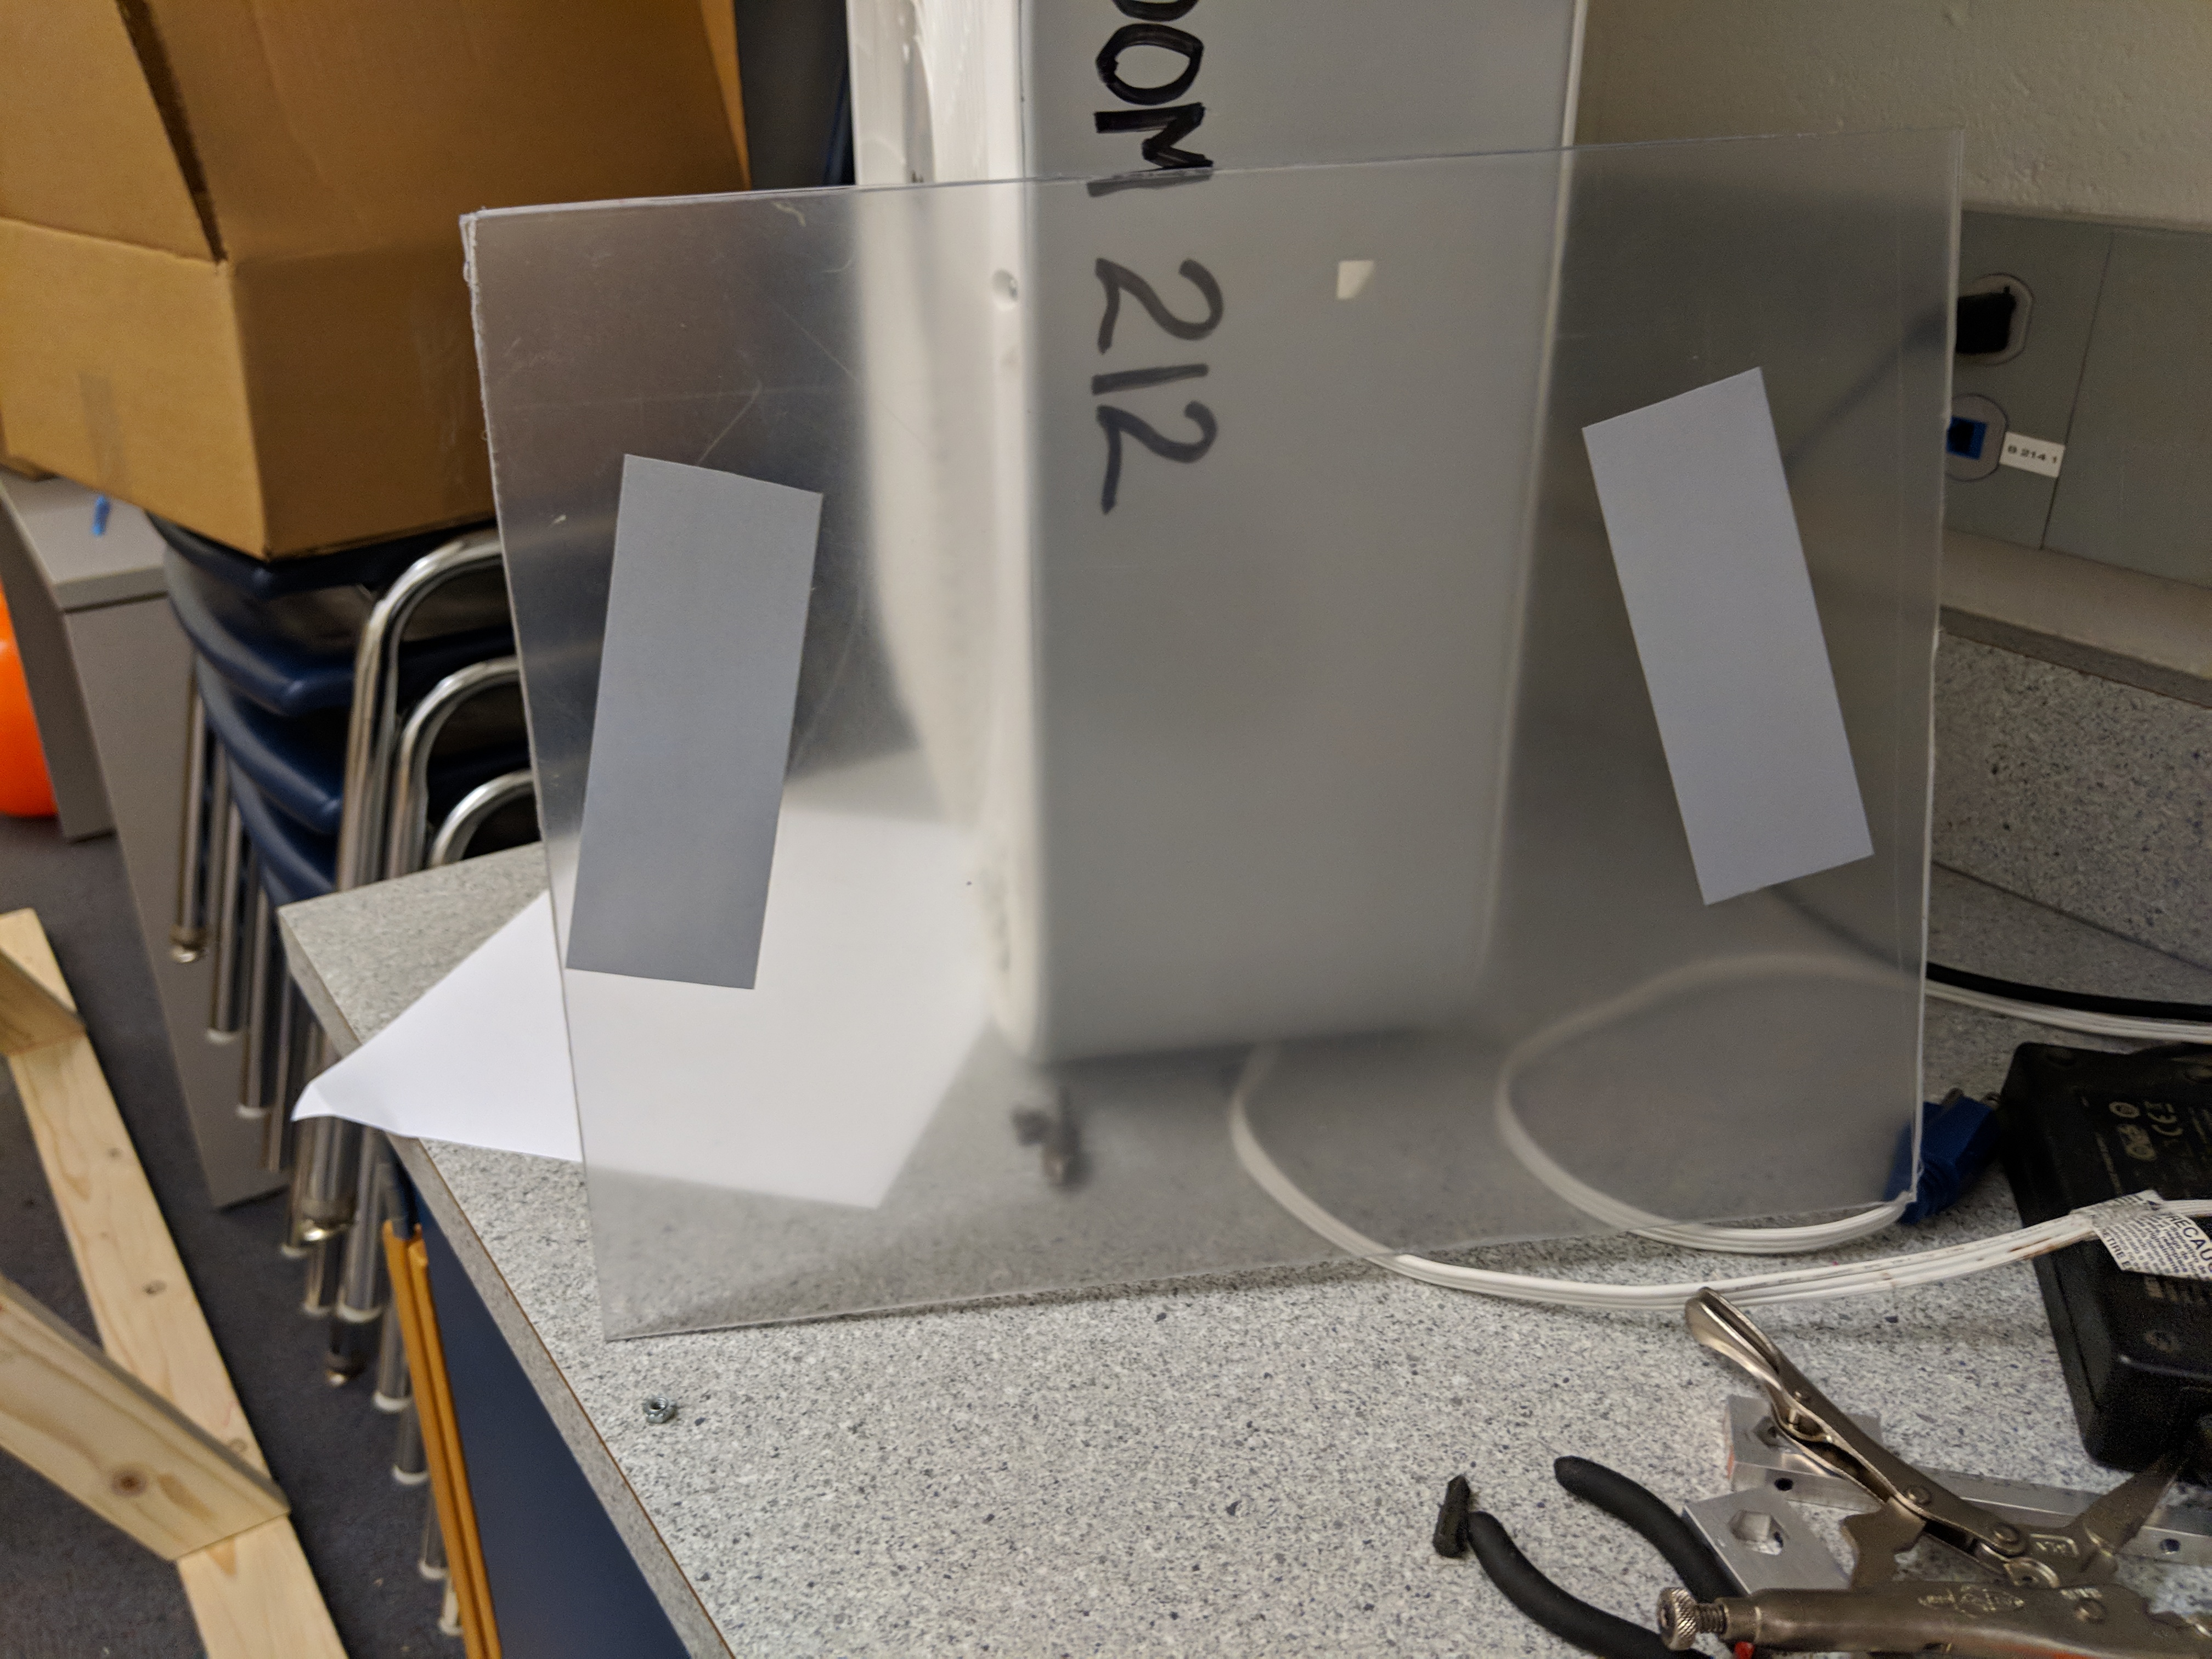vision_target: (556, 350, 1914, 995)
